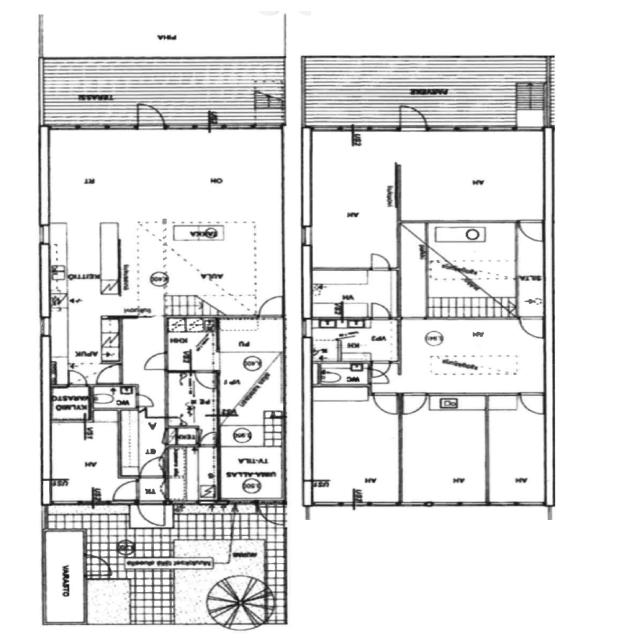door: (49, 384, 91, 420), (134, 100, 167, 130), (396, 102, 429, 132), (135, 500, 167, 527), (166, 426, 209, 446), (256, 502, 286, 528), (517, 391, 547, 416), (516, 219, 545, 244), (110, 478, 140, 502), (516, 316, 545, 340), (372, 391, 399, 416), (400, 392, 427, 416), (257, 295, 285, 318), (141, 350, 170, 372), (365, 251, 393, 273), (95, 364, 122, 386), (138, 456, 165, 478), (192, 368, 217, 391), (367, 300, 392, 321), (368, 362, 392, 382), (66, 368, 88, 386), (198, 431, 217, 447), (134, 394, 155, 408)
window: (33, 222, 52, 248), (298, 223, 314, 250), (218, 123, 266, 132), (165, 122, 202, 132), (358, 125, 398, 134), (36, 316, 51, 338), (506, 500, 546, 508), (427, 499, 462, 508), (49, 619, 83, 628), (366, 499, 398, 508), (74, 123, 110, 131), (298, 318, 310, 339)
zone: (43, 128, 284, 218), (398, 129, 546, 221), (307, 132, 399, 271), (399, 317, 545, 395), (308, 389, 401, 505), (421, 221, 522, 314), (401, 395, 487, 504), (46, 415, 126, 505), (216, 318, 284, 418), (487, 395, 548, 505), (307, 270, 400, 319), (308, 318, 399, 362), (165, 372, 218, 446), (218, 445, 284, 502), (165, 316, 218, 373), (166, 445, 218, 503), (85, 579, 130, 625), (216, 415, 282, 446), (48, 386, 92, 420), (314, 362, 370, 386), (90, 385, 138, 410), (137, 477, 167, 503), (166, 425, 199, 446)
